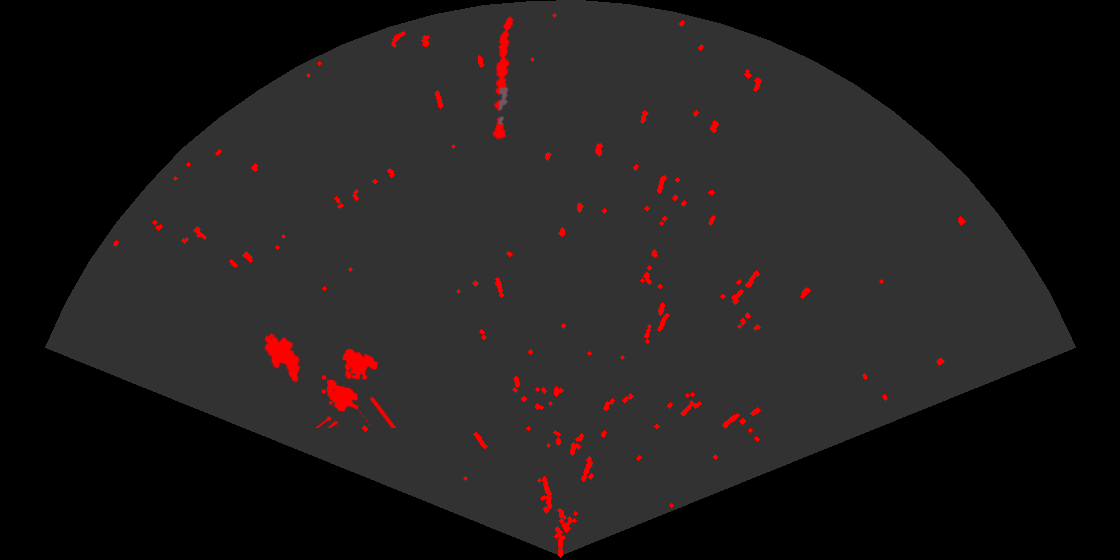AUV: (263, 332, 302, 384)
cage: (314, 347, 398, 428)
chain: (490, 15, 515, 140)
